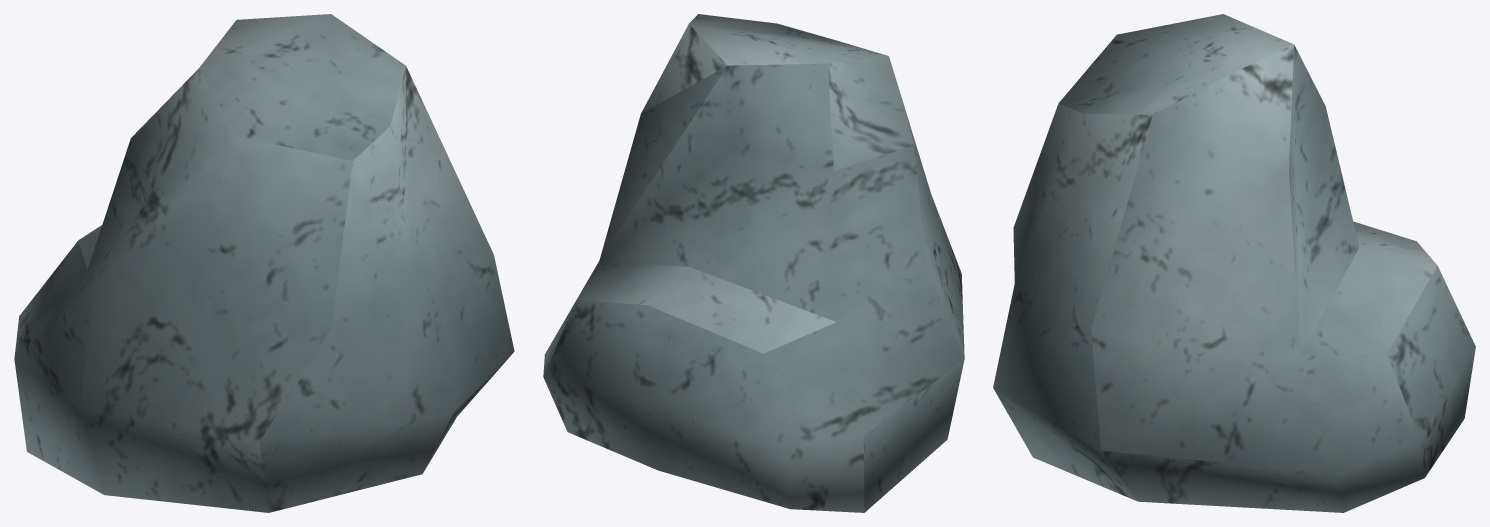
The model's file is rock-1.fbx.
3 renders of one model, left to right at view 1: azimuth 30°, elevation 25°; view 2: azimuth 150°, elevation 25°; view 3: azimuth 270°, elevation 25°, orthographic. The views are drawn at different scales.
Parts seen in each view (by area): view 1: rock.012; view 2: rock.012; view 3: rock.012.
Part boxes in pixels (box(x1,y1,x2,y2)): rock.012: box(14, 14, 514, 512); rock.012: box(543, 14, 964, 512); rock.012: box(993, 14, 1475, 512).
Size of the model in its own units: 522 by 540 by 549.
